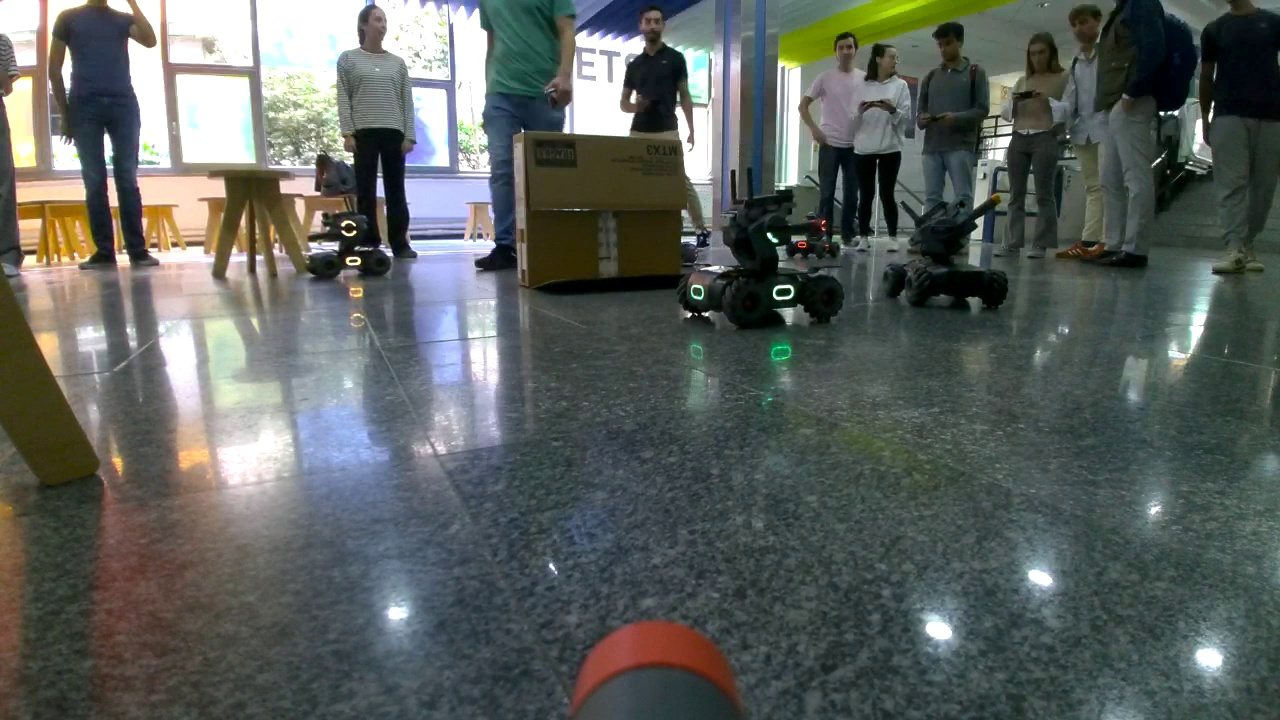robot: (673, 188, 857, 327), (876, 197, 1012, 312), (301, 203, 398, 286)
